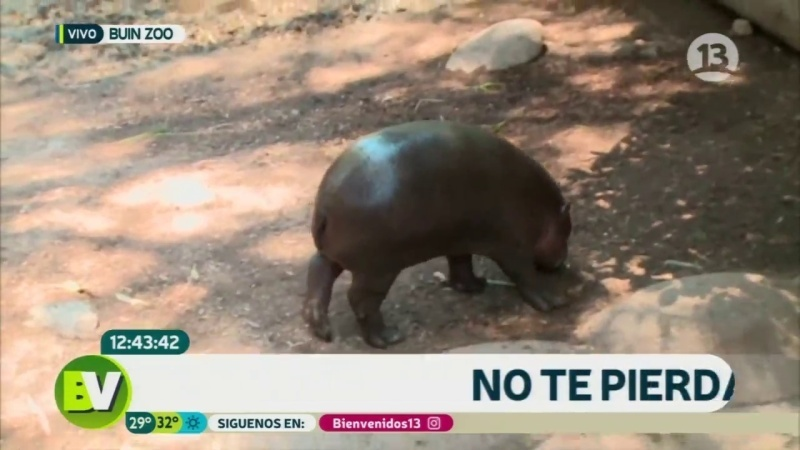hipopotamo: (291, 111, 592, 350)
